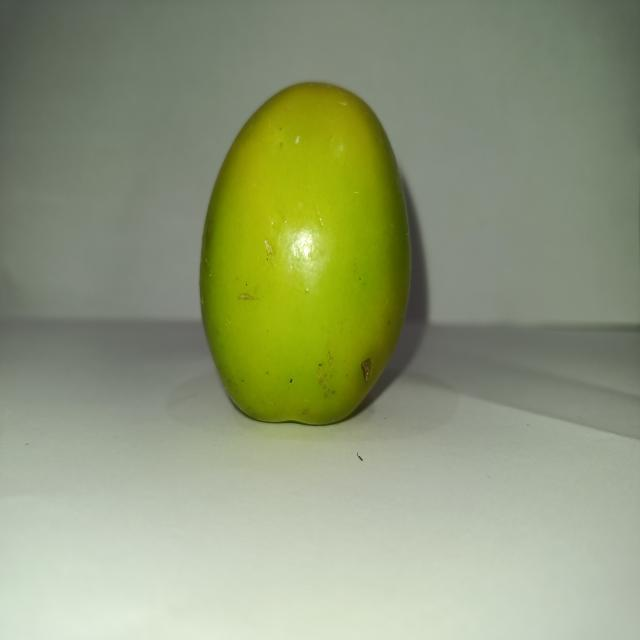Red: (197, 79, 413, 426)
